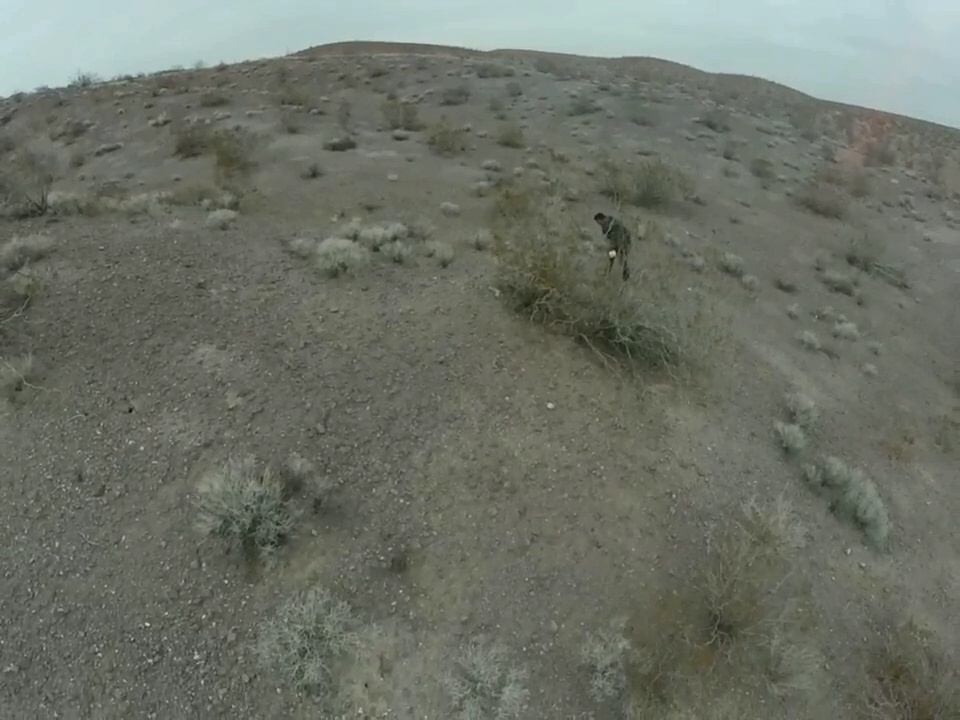insan: (588, 209, 635, 283)
